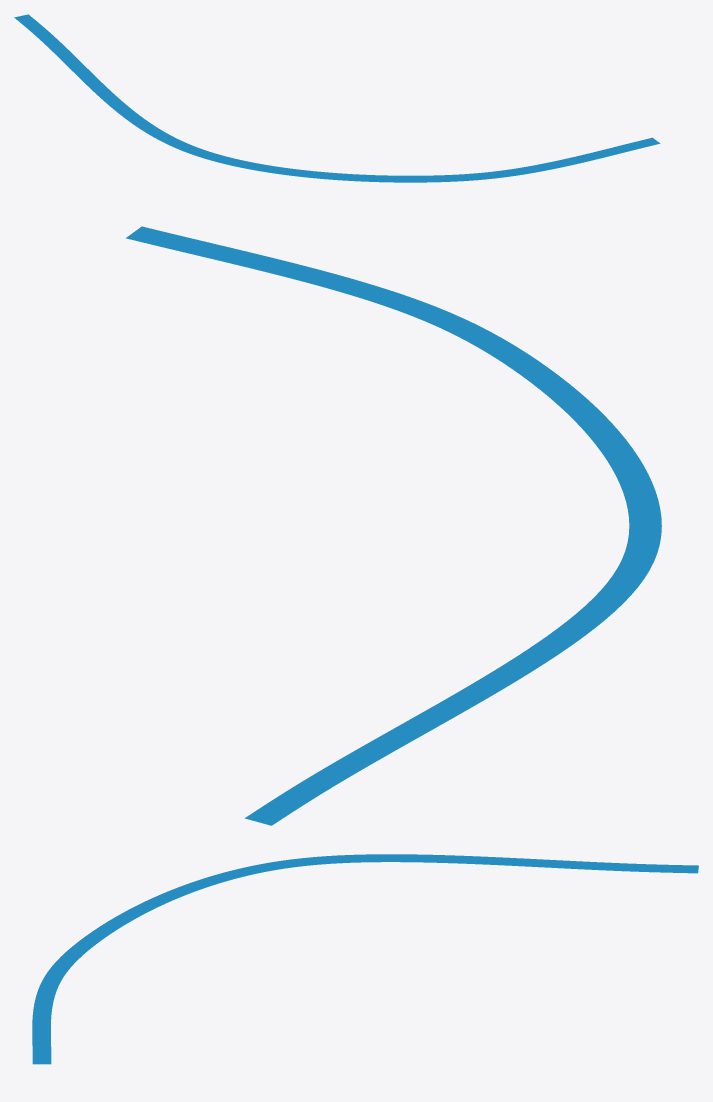
Rendered from guide.glb.
3 renders of one model, top to bottom at view 1: azimuth 30°, elevation 25°; view 2: azimuth 150°, elevation 25°; view 3: azimuth 270°, elevation 25°, orthographic. The views are drawn at different scales.
Parts seen in each view (by area): view 1: static; view 2: static; view 3: static.
Boxes of the visible parts, left/top/right/bottom form: static: left=14, top=14, right=660, bottom=182; static: left=126, top=226, right=661, bottom=825; static: left=32, top=854, right=698, bottom=1064.
Size of the model in its own units: 9.49 by 0 by 11.76.
